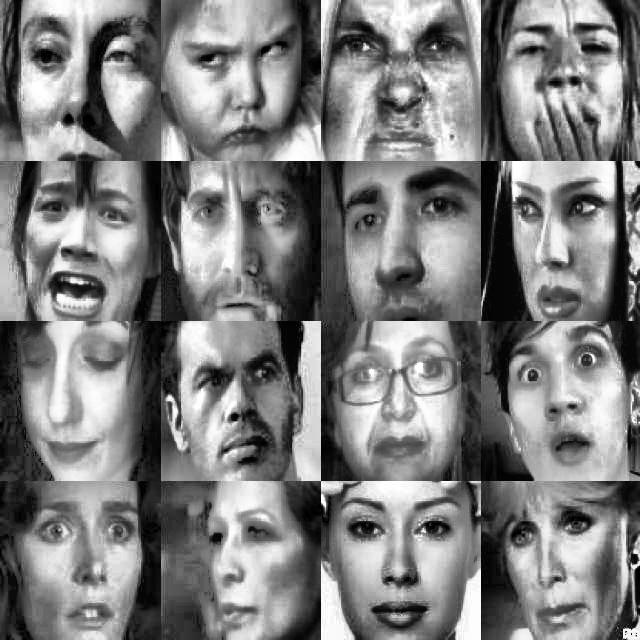angry: (326, 10, 474, 156), (182, 13, 304, 151)
fear: (506, 320, 623, 472), (22, 489, 140, 638), (28, 170, 139, 319), (190, 340, 288, 472)
happy: (13, 323, 137, 474)
neutral: (330, 484, 469, 640), (336, 324, 462, 472), (504, 170, 616, 316), (194, 500, 290, 640)
sad: (13, 5, 159, 154), (335, 164, 479, 315), (180, 173, 303, 317), (502, 9, 624, 149), (500, 491, 603, 640)
